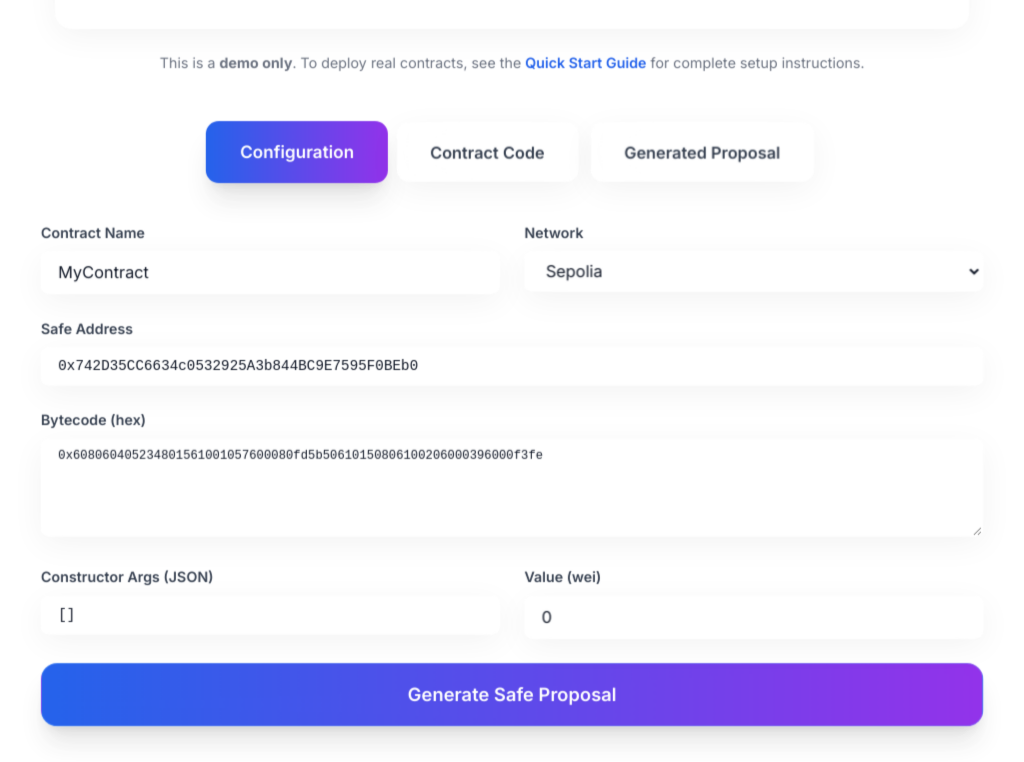
Test: SafeProposalSandbox › should handle invalid constructor args JSON
This screenshot has width=1024, height=762.
(page scrolled)
Type "invalid json" into the field labelled "Constructor Args (JSON)". click: x=270, y=615
box: [41,595,500,634]
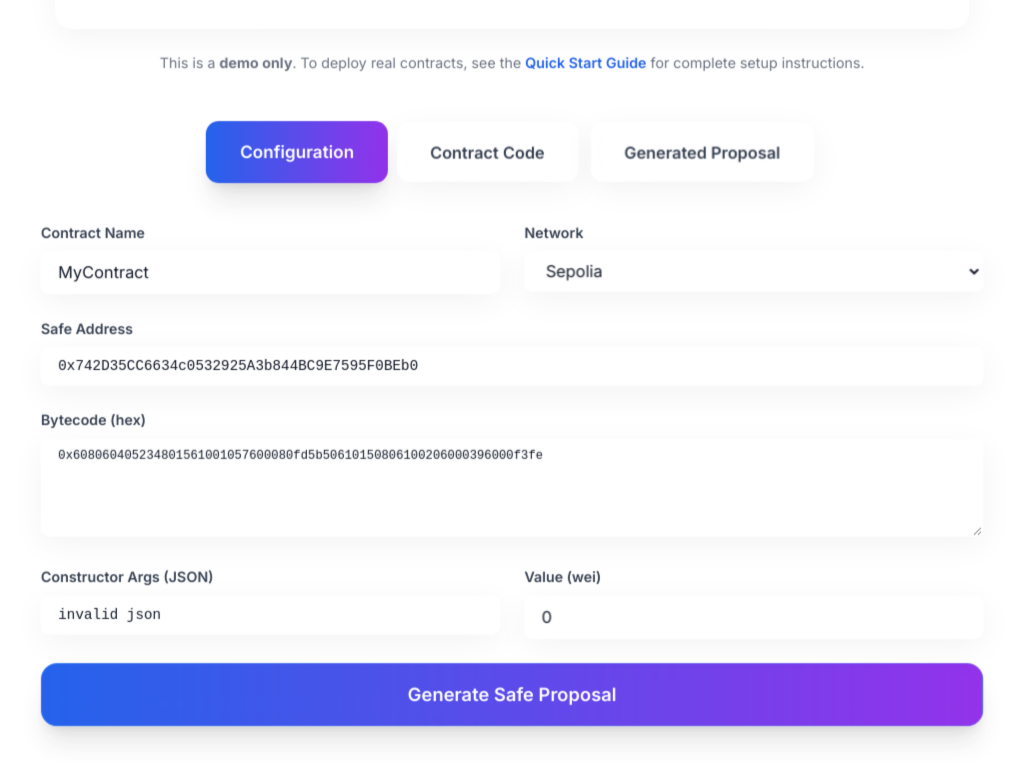
Click the button "Generate Safe Proposal". click: x=512, y=694
box: [41,662,983,726]
(page scrolled)
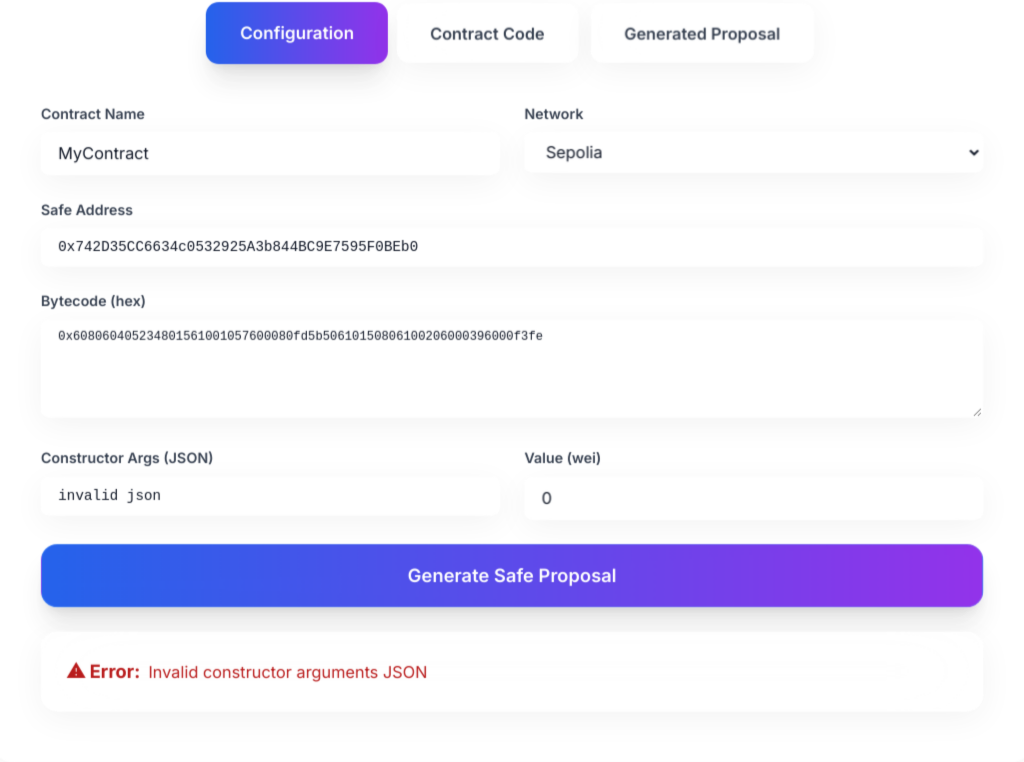
Expected: the text "Invalid constructor arguments JSON" is shown, [148,661,427,681]
